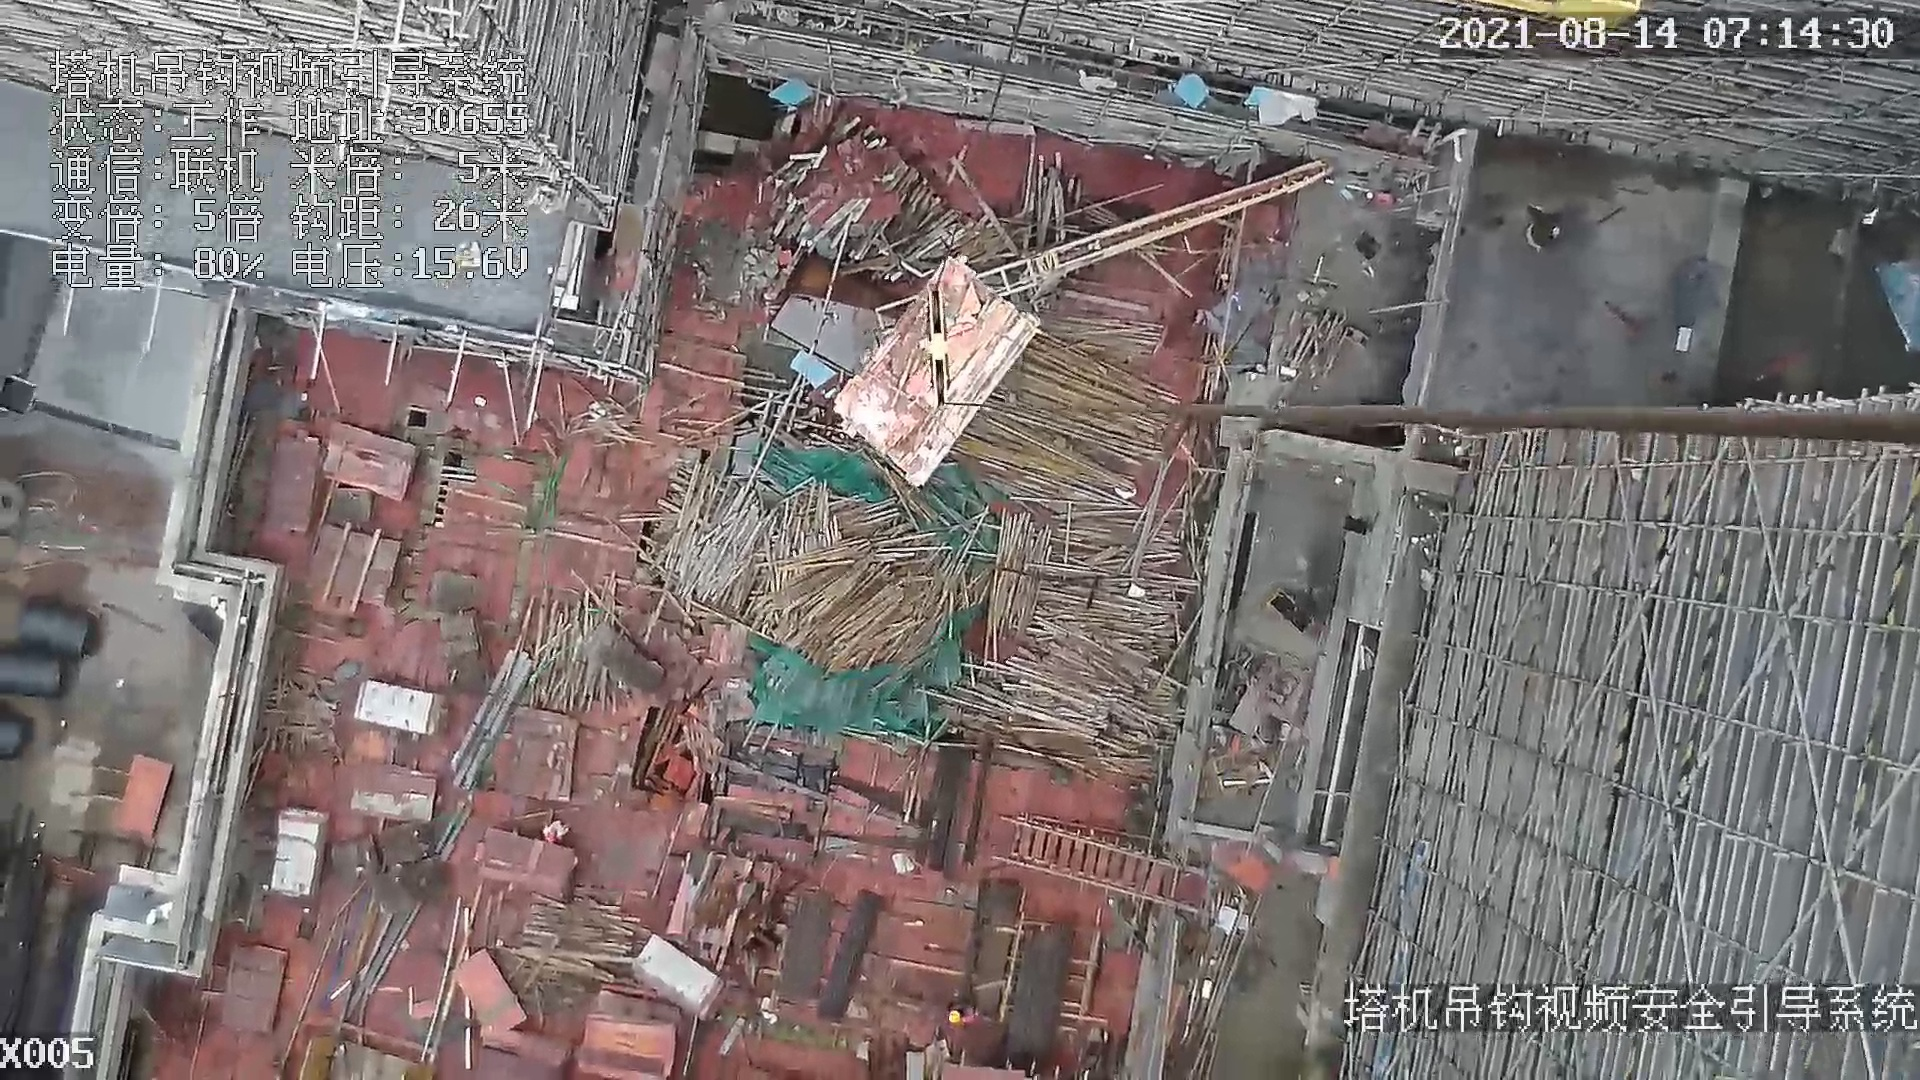hook: (915, 281, 960, 407)
